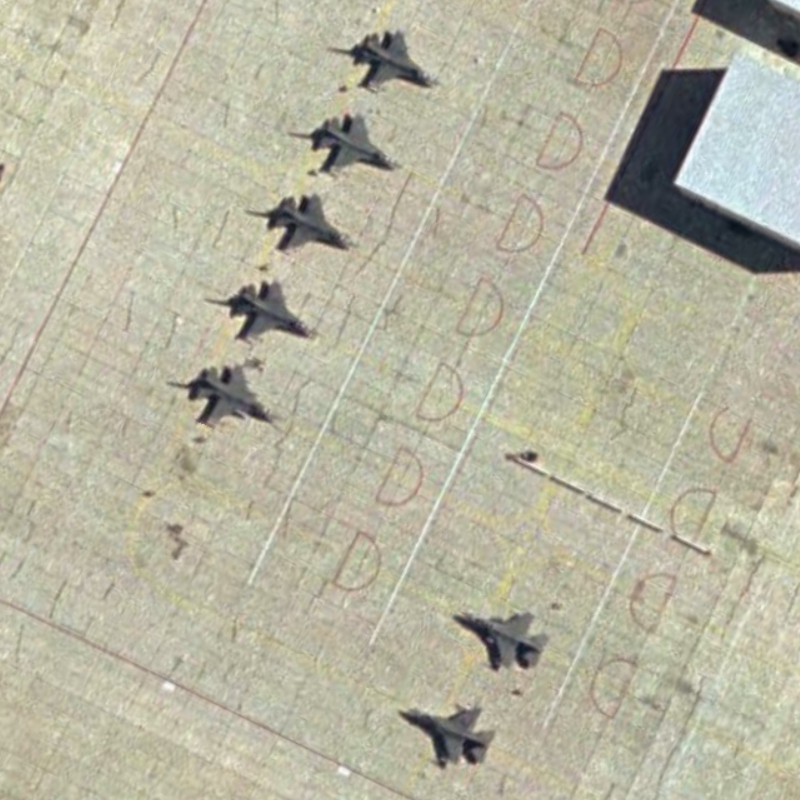A5: (387, 700, 502, 772), (452, 604, 555, 681), (345, 22, 444, 99), (177, 357, 279, 430), (222, 270, 315, 350), (261, 185, 358, 260), (306, 109, 408, 179)
